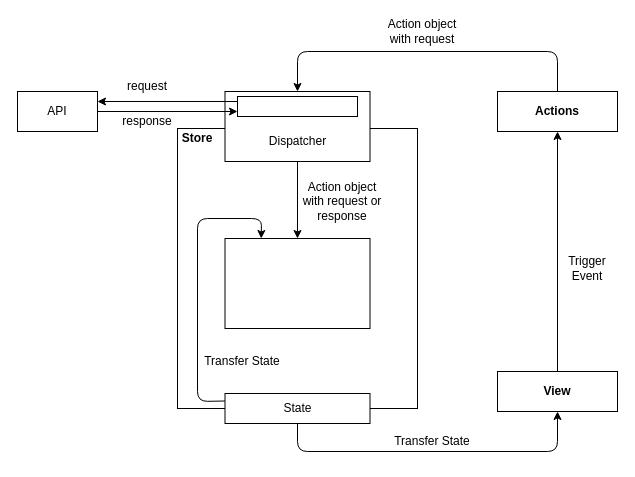
Some shapes in this 635 by 477 pixel diagram are drawn without their labels. Here are the shapes that lost their labels. From the top down, the centre of each, then its label:
At [297,106]: "Middlewares".
At [297,283]: "Reducers".
